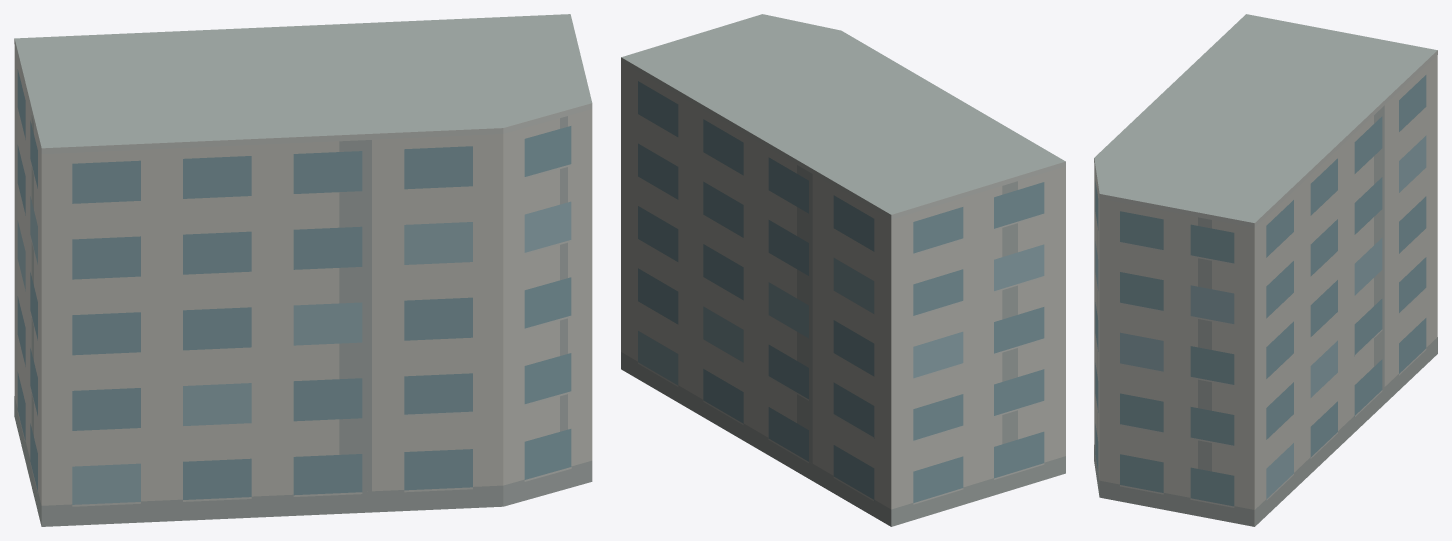
Rendered from residential-399970b3-475c-417b-8459-b7f7b966bcd4.glb.
3 views of the same model, side by side, from view 1: azimuth 30°, elevation 25°; view 2: azimuth 150°, elevation 25°; view 3: azimuth 270°, elevation 25° (orthographic). The views are drawn at different scales.
Parts seen in each view (by area): view 1: residential-399970b3-475c-417b-8459-b7f7b966bcd4.tmp; view 2: residential-399970b3-475c-417b-8459-b7f7b966bcd4.tmp; view 3: residential-399970b3-475c-417b-8459-b7f7b966bcd4.tmp.
Boxes of the visible parts, left/top/right/bottom form: residential-399970b3-475c-417b-8459-b7f7b966bcd4.tmp: left=14, top=14, right=592, bottom=526; residential-399970b3-475c-417b-8459-b7f7b966bcd4.tmp: left=621, top=14, right=1065, bottom=526; residential-399970b3-475c-417b-8459-b7f7b966bcd4.tmp: left=1094, top=14, right=1437, bottom=526.
Bounding box in the file's own units: 22.53 × 15.25 × 15.64.
